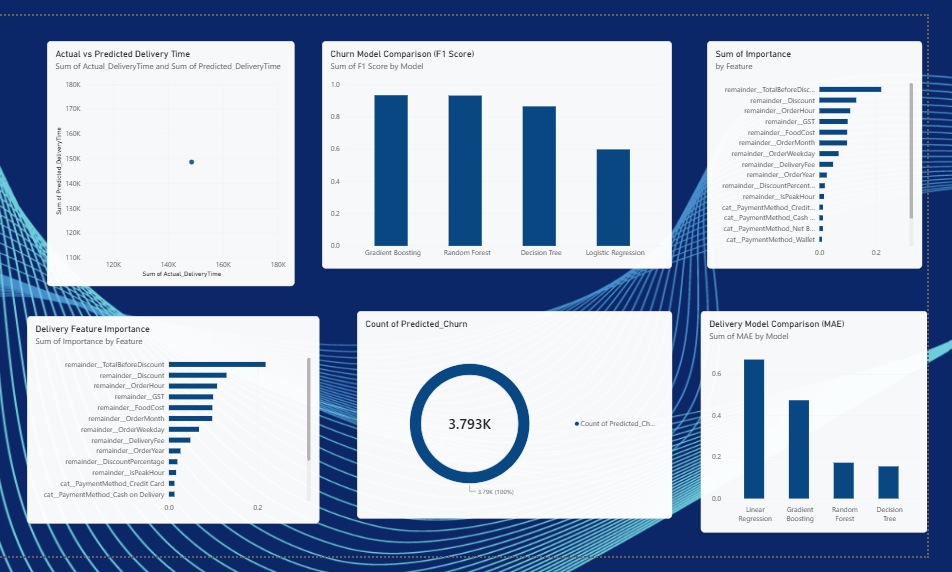

What the dashboard file says about the page in this screenshot:
{"tool":"powerbi","page":{"name":"ML Dashboard","canvas":[1920,1080],"ordinal":5},"visuals":[{"type":"clusteredColumnChart","title":"Churn Model Comparison (F1 Score)","fields":{"Category":["churn_model_comparison (1).Model"],"Y":["Sum(churn_model_comparison (1).F1 Score)"]},"box":[710,50,700,455],"z":0},{"type":"scatterChart","title":"Actual vs Predicted Delivery Time","fields":{"X":["Sum(delivery_predictions.Actual_DeliveryTime)"],"Y":["Sum(delivery_predictions.Predicted_DeliveryTime)"]},"box":[160,50,495,490],"z":1000},{"type":"clusteredBarChart","fields":{"Category":["Delivery_Feature_Importance.Feature"],"Y":["Sum(Delivery_Feature_Importance.Importance)"]},"box":[1480,50,430,455],"z":2000},{"type":"clusteredBarChart","title":"Delivery Feature Importance","fields":{"Category":["Delivery_Feature_Importance.Feature"],"Y":["Sum(Delivery_Feature_Importance.Importance)"]},"box":[120,600,585,415],"z":3000},{"type":"donutChart","fields":{"Y":["CountNonNull(churn_predictions (1).Predicted_Churn)"]},"box":[780,590,630,415],"z":4000},{"type":"clusteredColumnChart","title":"Delivery Model Comparison (MAE)","fields":{"Category":["delivery_model_comparison (1).Model"],"Y":["Sum(delivery_model_comparison (1).MAE)"]},"box":[1466.7,590,453.3,443.3],"z":5000}]}

Visuals, with their boxes in screenshot pixels (x1, y1, x2, y2):
"Churn Model Comparison (F1 Score)" clusteredColumnChart: 318, 38, 673, 268
"Actual vs Predicted Delivery Time" scatterChart: 39, 38, 290, 286
clusteredBarChart - Delivery_Feature_Importance.Feature x Sum(Delivery_Feature_Importance.Importance): 708, 38, 926, 268
"Delivery Feature Importance" clusteredBarChart: 19, 317, 315, 527
donutChart - CountNonNull(churn_predictions (1).Predicted_Churn): 353, 312, 673, 522
"Delivery Model Comparison (MAE)" clusteredColumnChart: 701, 312, 931, 536
